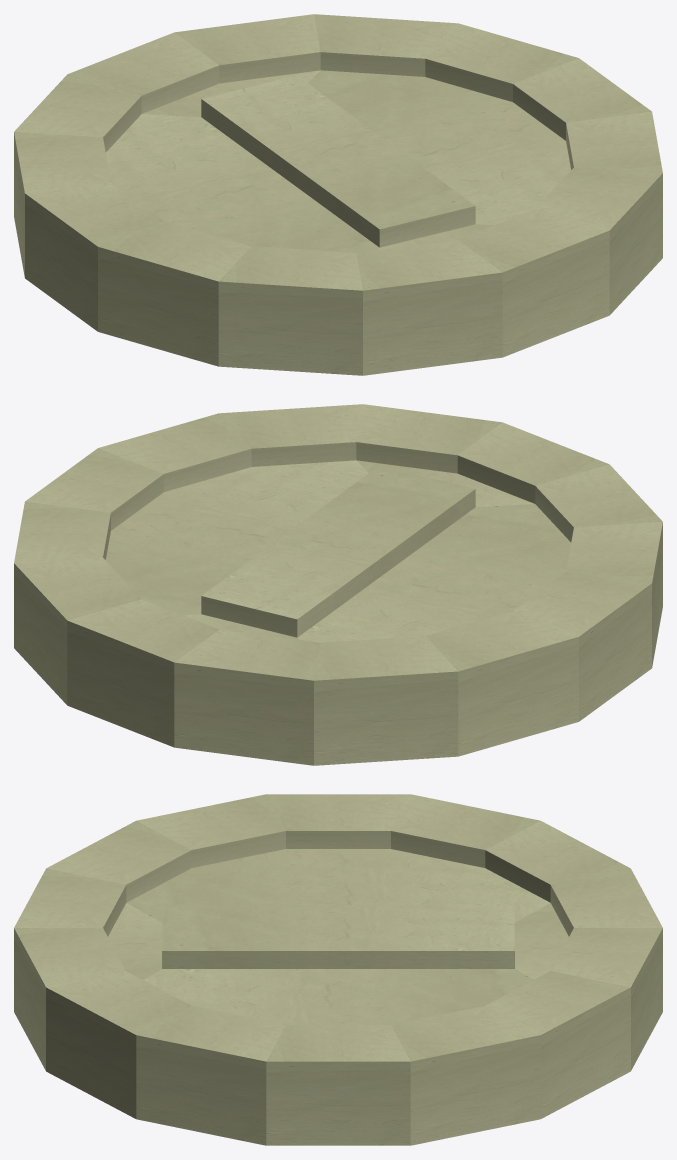
File: coin.fbx
3 renders of one model, top to bottom at view 1: azimuth 30°, elevation 25°; view 2: azimuth 150°, elevation 25°; view 3: azimuth 270°, elevation 25°, orthographic.
Visible parts, largest first — view 1: Cylinder; view 2: Cylinder; view 3: Cylinder.
Part boxes in pixels (x1,y1,x2,y2): Cylinder: [14, 14, 662, 375]; Cylinder: [14, 404, 662, 765]; Cylinder: [14, 794, 662, 1145].
Size of the model in its own units: 195 by 28.61 by 200.
